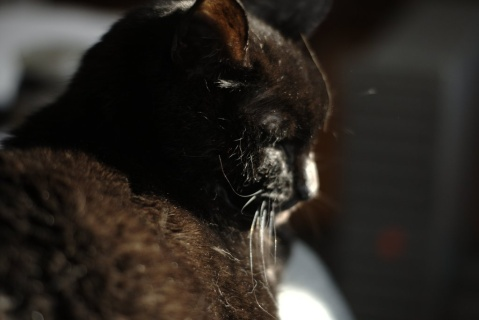Cat: (0, 0, 341, 319)
